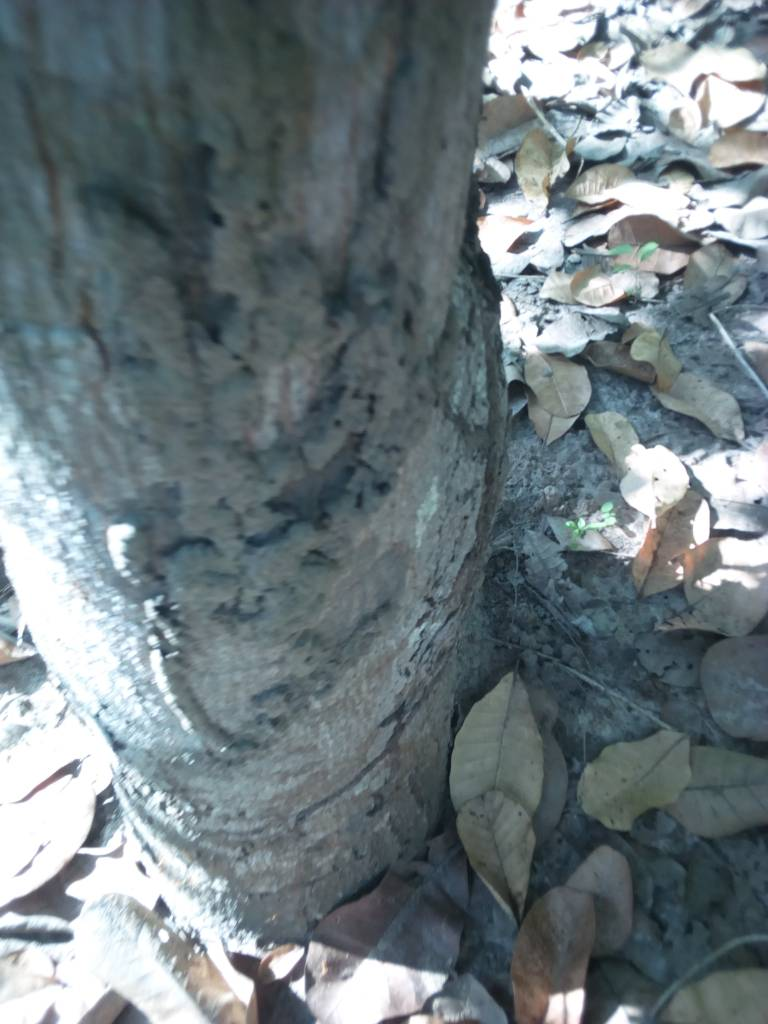Termites: (99, 94, 452, 741)
